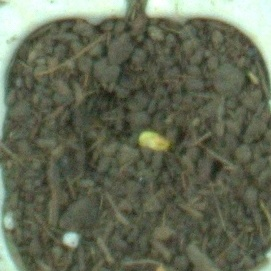chilli seed: (136, 126, 172, 154)
